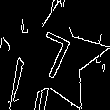L_SW: (28, 29, 77, 88)
